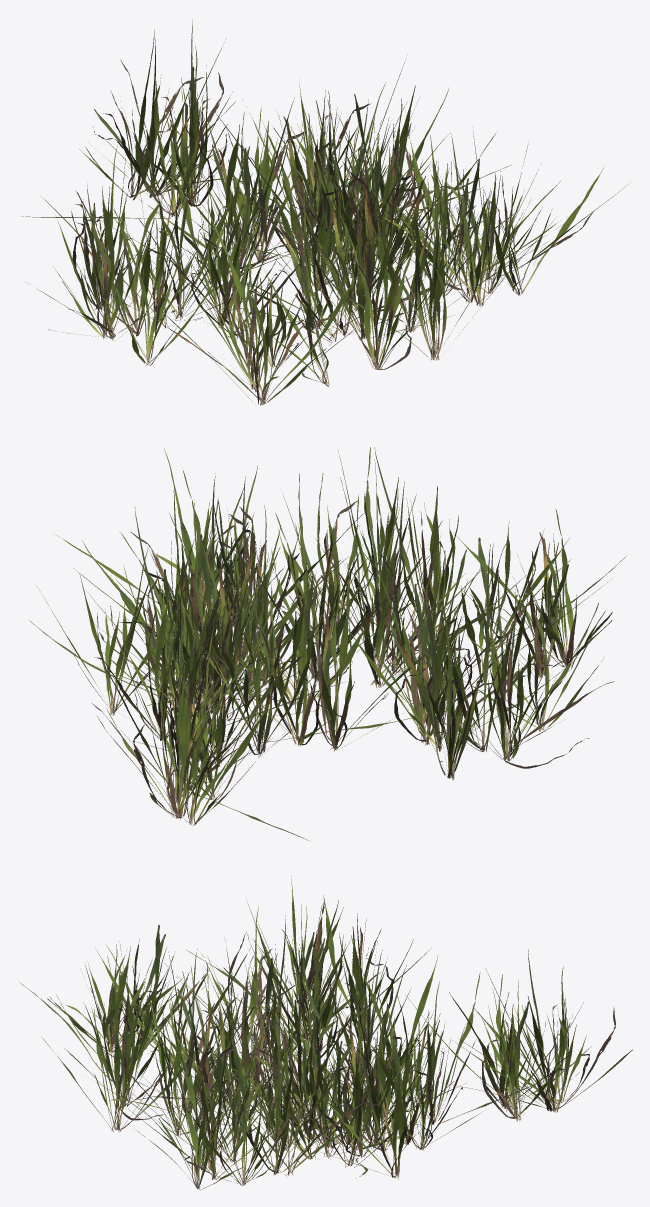
Rendered from Grass_04_Var1_LOD2.fbx.
The picture shows the model from 3 angles, top to bottom: view 1: azimuth 30°, elevation 25°; view 2: azimuth 150°, elevation 25°; view 3: azimuth 270°, elevation 25°; orthographic projection. The views are drawn at different scales.
Visible parts, largest first — view 1: Var1_LOD2; view 2: Var1_LOD2; view 3: Var1_LOD2.
Part boxes in pixels (box(x1,y1,x2,y2)): Var1_LOD2: box(21, 20, 630, 405); Var1_LOD2: box(29, 447, 626, 841); Var1_LOD2: box(19, 876, 632, 1190).
Bounding box in the file's own units: 78.19 × 26.57 × 82.38.
